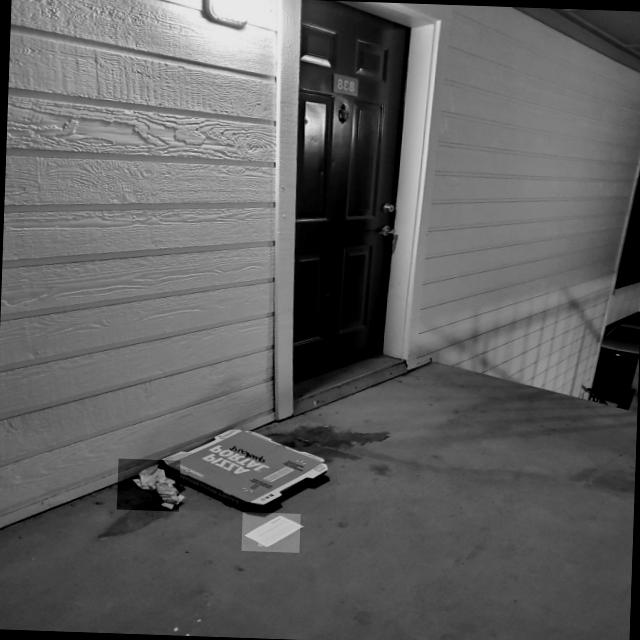Food Carton: (168, 429, 338, 515)
Paper bag: (116, 458, 180, 511), (240, 512, 300, 552)
